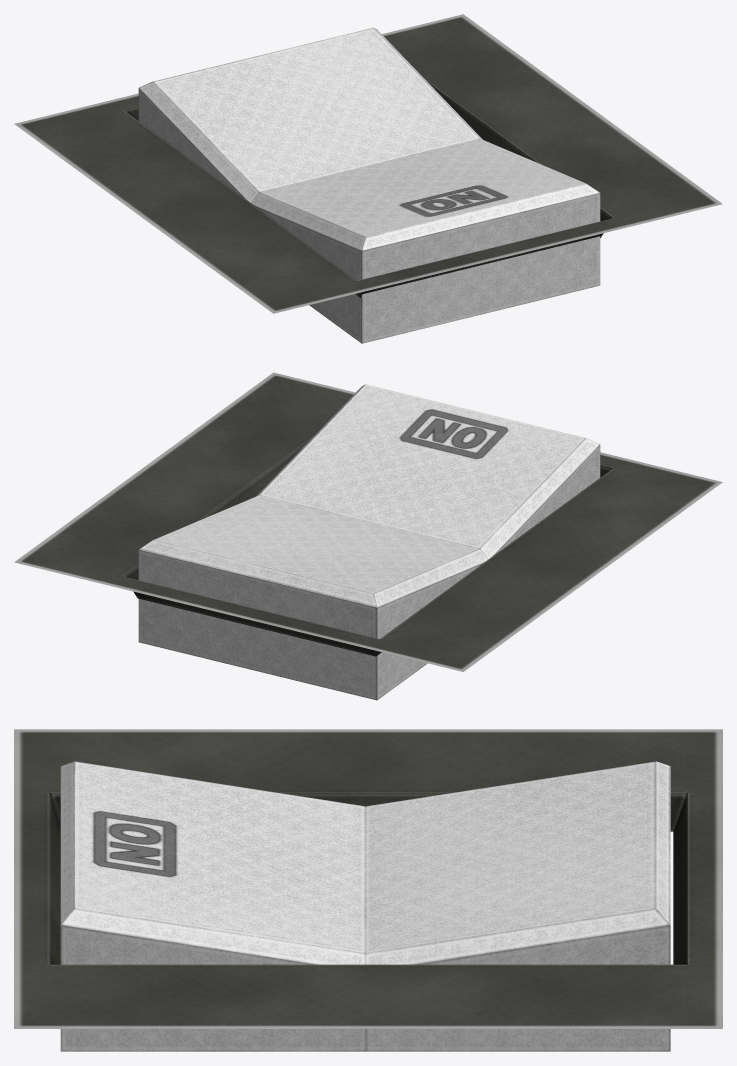
The model's file is Switch.FBX.
The picture shows the model from 3 angles, top to bottom: view 1: azimuth 30°, elevation 25°; view 2: azimuth 150°, elevation 25°; view 3: azimuth 270°, elevation 25°; orthographic projection. The views are drawn at different scales.
Parts seen in each view (by area): view 1: swich_move, swich; view 2: swich_move, swich; view 3: swich_move, swich.
Boxes of the visible parts, x1,y1,x2,y2 form: swich_move: (138, 27, 600, 343); swich: (14, 14, 722, 313); swich_move: (138, 384, 600, 700); swich: (14, 372, 722, 671); swich_move: (60, 761, 670, 1051); swich: (14, 729, 722, 1028).
Bounding box in the file's own units: 50 × 10.69 × 50.
Materials: 1 (1 with a texture image).
